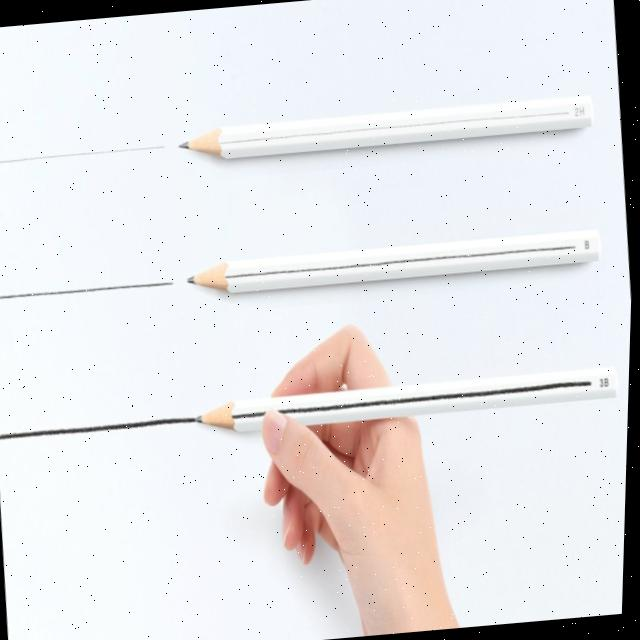pencil: (177, 214, 611, 318), (167, 84, 601, 180), (185, 358, 627, 448)
